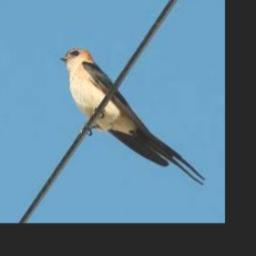Swallow: (59, 48, 206, 186)
